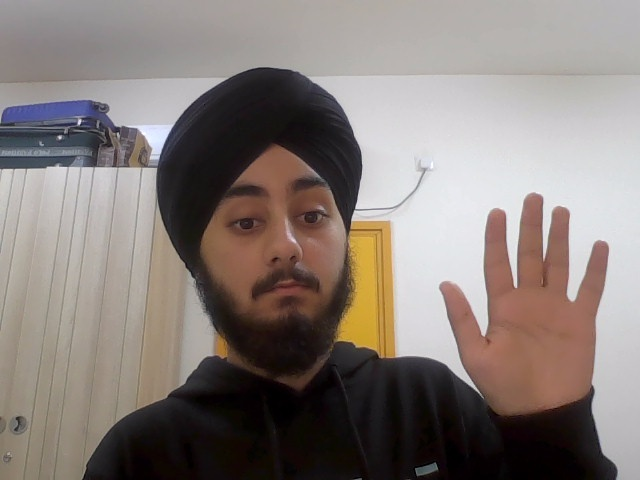Hello: (438, 191, 608, 413)
